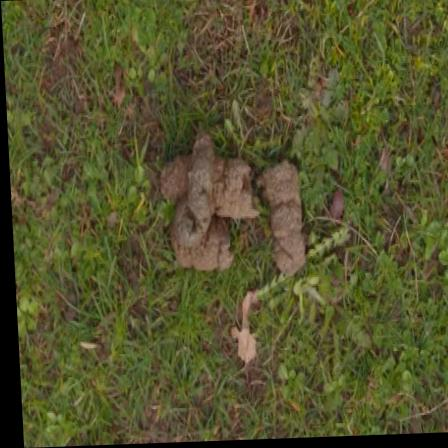dog-poop: (154, 136, 307, 295)
